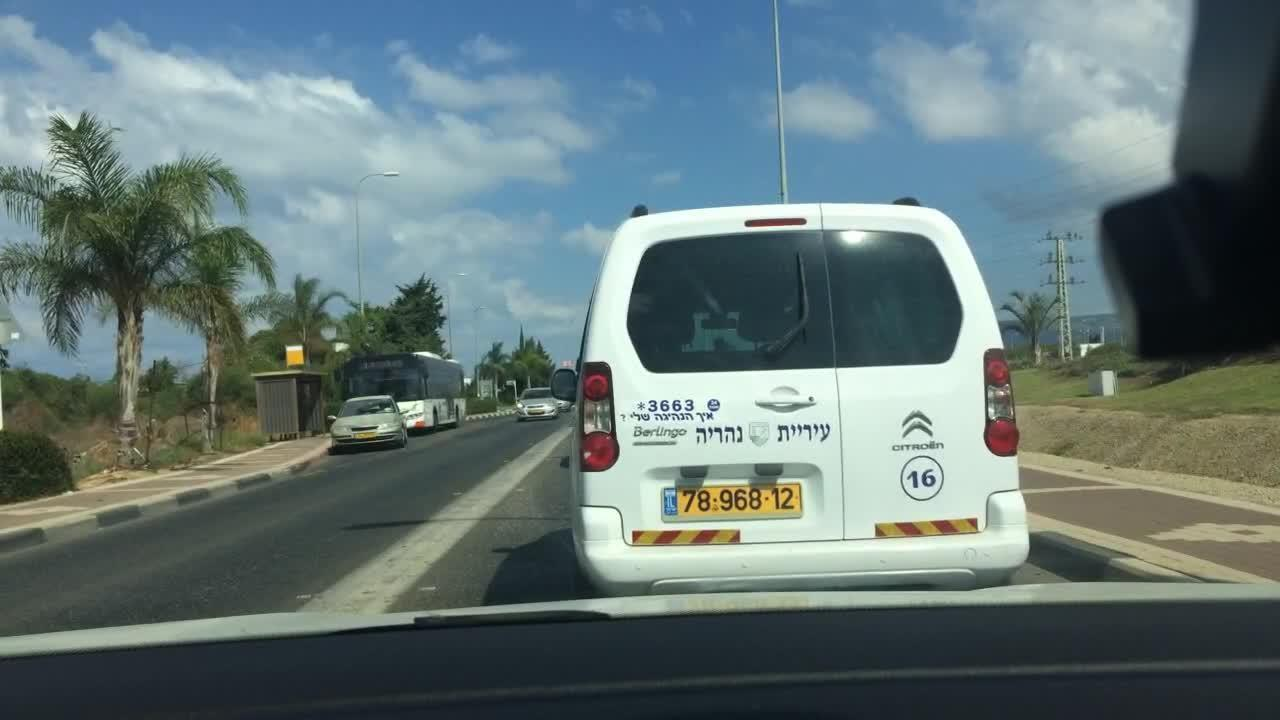Citroen: (889, 402, 940, 444)
